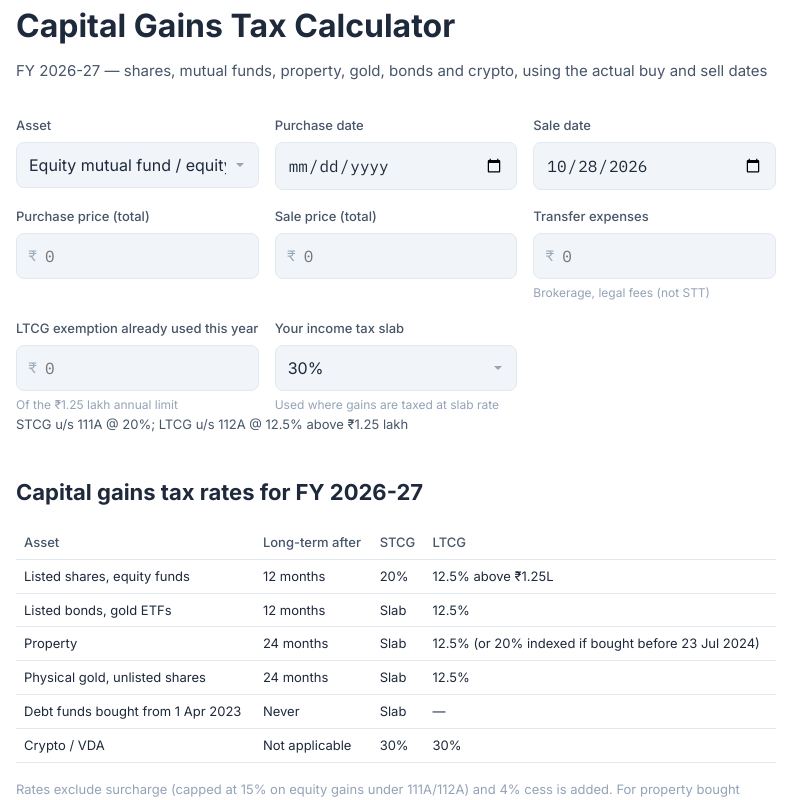
Test case: CapitalGainsCalculator page › reports an error when the sale is before the purchase
In the date field below "Purchase date": x=396, y=166 [275,142,517,190], type "2026-01-01"
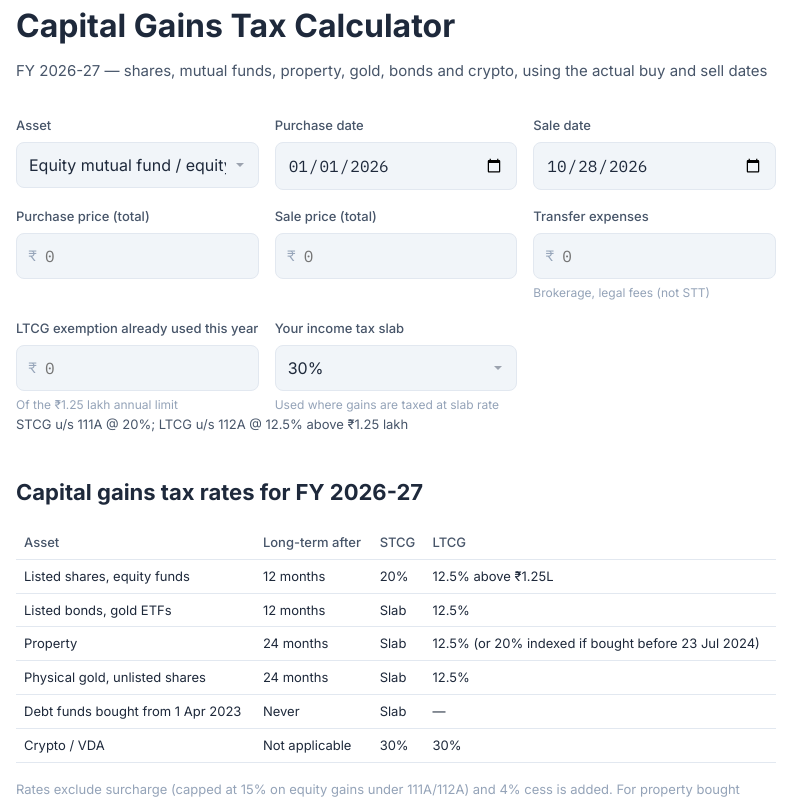
In the date field below "Sale date": x=655, y=166 [533,142,776,190], type "2025-01-01"
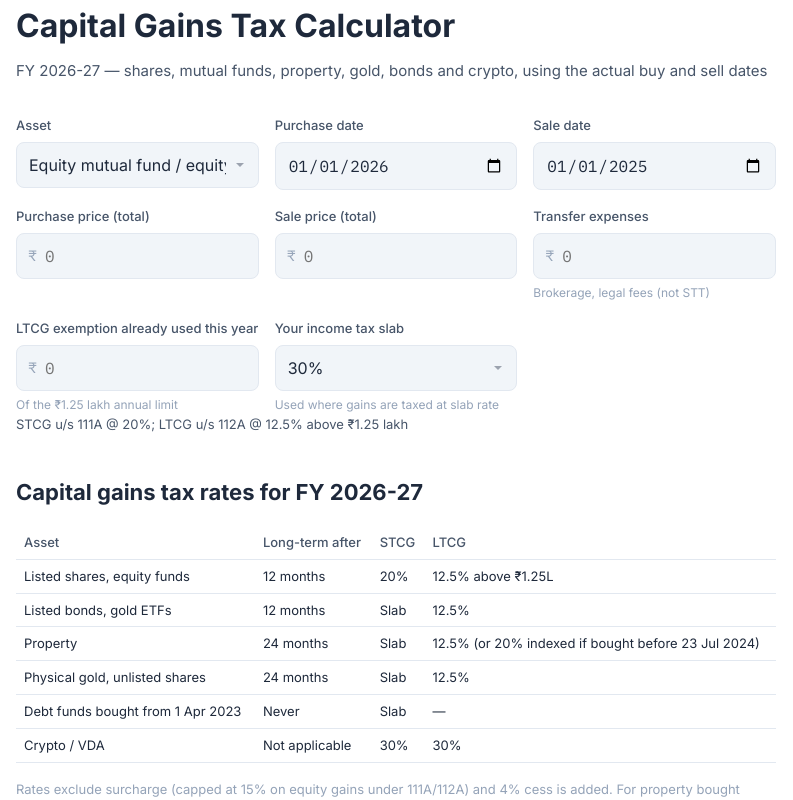
In the number field with placeholder "0" below "Sale price (total)": x=396, y=256 [275,233,517,279], type "100"
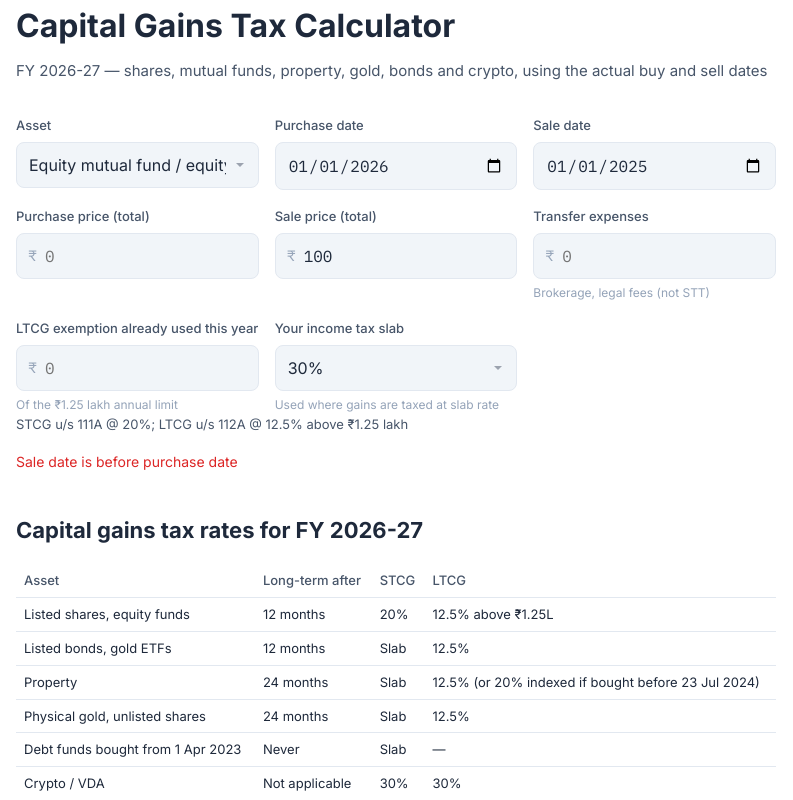
Expected: the message shows "before purchase", [16,453,238,470]
